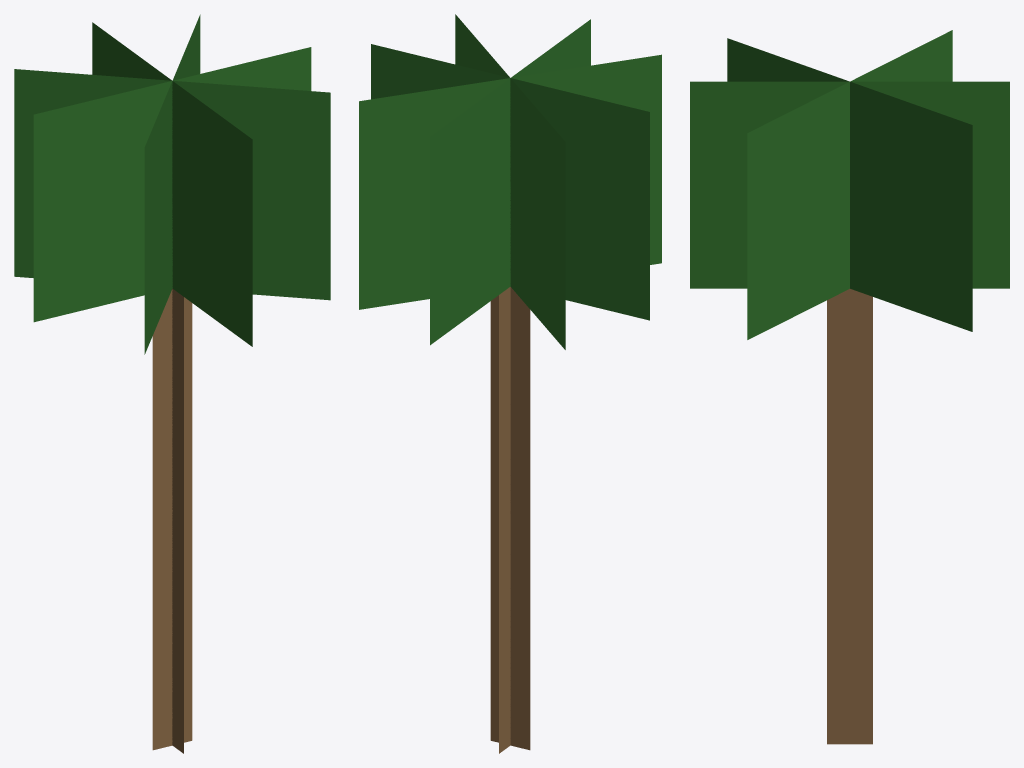
Rendered from 09dfdc07-862c-453c-97fe-f374d13f4e32.gltf.
3 views of the same model, side by side, from view 1: azimuth 30°, elevation 25°; view 2: azimuth 150°, elevation 25°; view 3: azimuth 270°, elevation 25° (orthographic).
Visible parts, largest first — view 1: mesh (×6); view 2: mesh (×6); view 3: mesh (×4).
Boxes of the visible parts, <box> form: mesh (×6): <box>14,14,330,753</box>; mesh (×6): <box>359,14,661,753</box>; mesh (×4): <box>690,30,1009,744</box>.
Bounding box in the file's own units: 0.875 × 2 × 0.875.
Materials: 2 (2 with a texture image).
